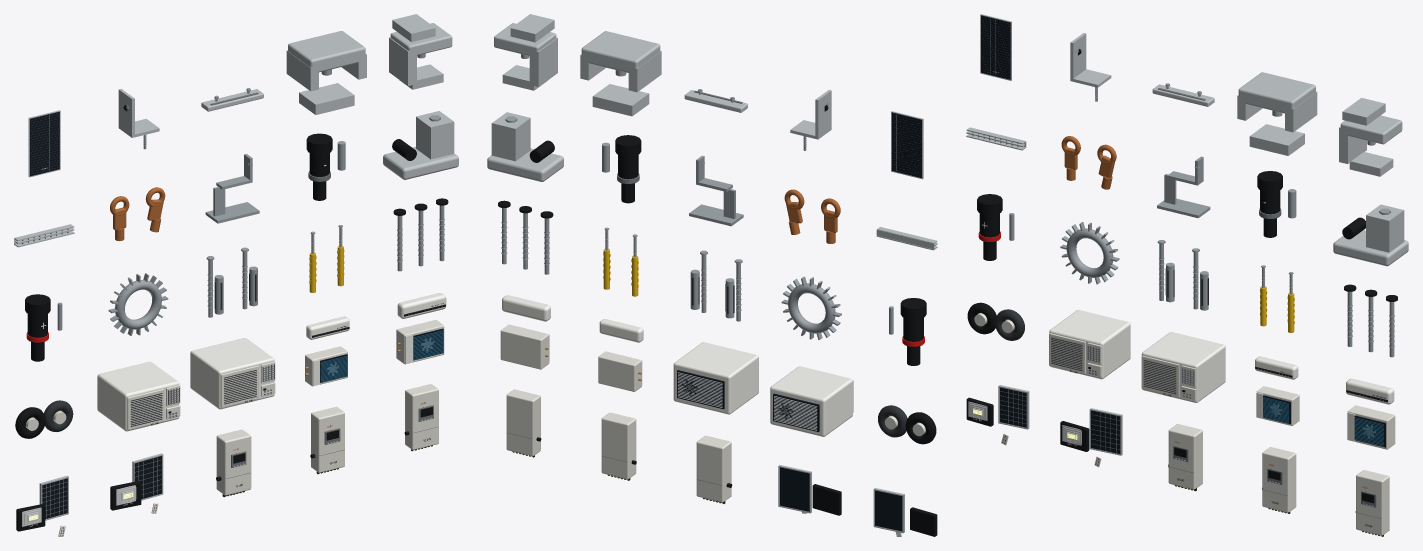
The model's file is all_products_collection.glb.
3 renders of one model, left to right at view 1: azimuth 30°, elevation 25°; view 2: azimuth 150°, elevation 25°; view 3: azimuth 330°, elevation 25°, orthographic.
Visible parts, largest first — view 1: Window air-conditioner casing (×2), Solis hybrid inverter enclosure (×3), Main discharge grille bezel (×2), Mid-clamp top cap, Solar charging panel (×2), T-slot nut (×2), Bifacial double-glass laminate, Cable clamp block, Split AC outdoor-unit casing (×2), Split AC indoor unit casing (×2), Grounding-lug base, Electrical tape roll (×2) (+9 smaller); view 2: Window air-conditioner casing (×2), Solis hybrid inverter enclosure (×3), Split AC outdoor-unit casing (×2), Rear condenser coil (×2), Mid-clamp top cap, Solar charging panel (×2), T-slot nut (×2), Bifacial double-glass laminate, Cable clamp block, Split AC indoor unit casing (×2), Floodlight housing (×2), Grounding-lug base (+10 smaller); view 3: Window air-conditioner casing (×2), Solis hybrid inverter enclosure (×3), Main discharge grille bezel (×2), Mid-clamp top cap, Solar charging panel (×2), T-slot nut (×2), Bifacial double-glass laminate, Cable clamp block, Split AC outdoor-unit casing (×2), Split AC indoor unit casing (×2), Grounding-lug base, Outdoor condenser grille (×2) (+9 smaller).
Part boxes in pixels (x1,y1,x2,y2): Window air-conditioner casing (×2): (97,338,274,431); Solis hybrid inverter enclosure (×3): (216,384,438,495); Main discharge grille bezel (×2): (127,365,258,430); Mid-clamp top cap: (288,31,365,72); Solar charging panel (×2): (42,456,161,519); T-slot nut (×2): (299,64,443,114); Bifacial double-glass laminate: (30,111,59,176); Cable clamp block: (416,111,454,159); Split AC outdoor-unit casing (×2): (305,320,444,386); Split AC indoor unit casing (×2): (306,293,446,339); Grounding-lug base: (383,147,458,179); Electrical tape roll (×2): (15,400,73,438); Window air-conditioner casing (×2): (673,342,852,436); Solis hybrid inverter enclosure (×3): (506,389,731,502); Split AC outdoor-unit casing (×2): (500,324,641,391); Rear condenser coil (×2): (677,370,819,431); Mid-clamp top cap: (581,31,660,72); Solar charging panel (×2): (780,467,902,531); T-slot nut (×2): (502,65,649,116); Bifacial double-glass laminate: (892,112,921,177); Cable clamp block: (491,112,530,161); Split AC indoor unit casing (×2): (502,295,643,342); Floodlight housing (×2): (812,484,937,536); Grounding-lug base: (487,148,563,181); Window air-conditioner casing (×2): (1049,310,1225,402); Solis hybrid inverter enclosure (×3): (1168,424,1389,535); Main discharge grille bezel (×2): (1049,333,1179,397); Mid-clamp top cap: (1238,72,1315,113); Solar charging panel (×2): (1000,387,1120,453); T-slot nut (×2): (1249,124,1393,176); Bifacial double-glass laminate: (981,15,1010,79); Cable clamp block: (1366,204,1404,252); Split AC outdoor-unit casing (×2): (1256,386,1395,449); Split AC indoor unit casing (×2): (1255,356,1394,404); Grounding-lug base: (1333,230,1408,266); Outdoor condenser grille (×2): (1263,395,1385,447).
Bounding box in the file's own units: 1.38 × 1.3 × 0.18.
